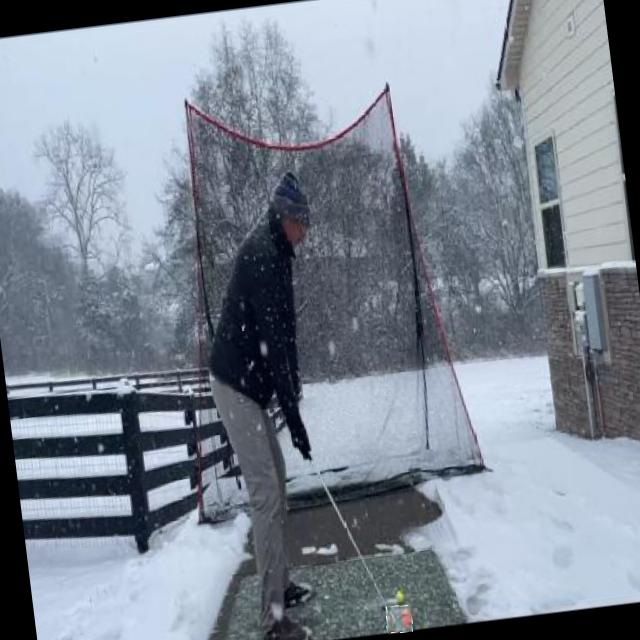club head: (384, 603, 412, 634)
